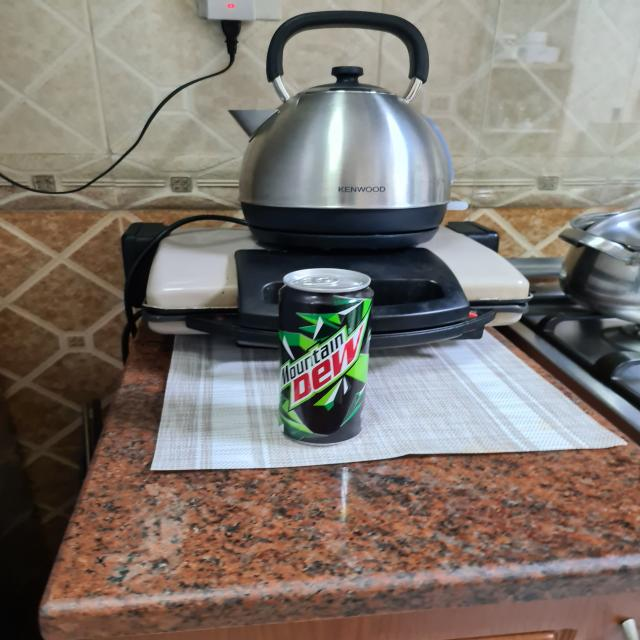non-organic waste: (277, 267, 373, 446)
